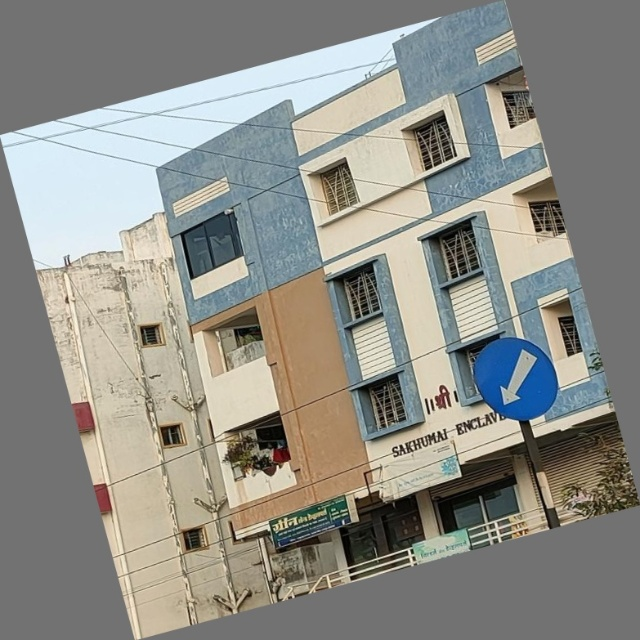R.301e: (456, 320, 577, 440)
